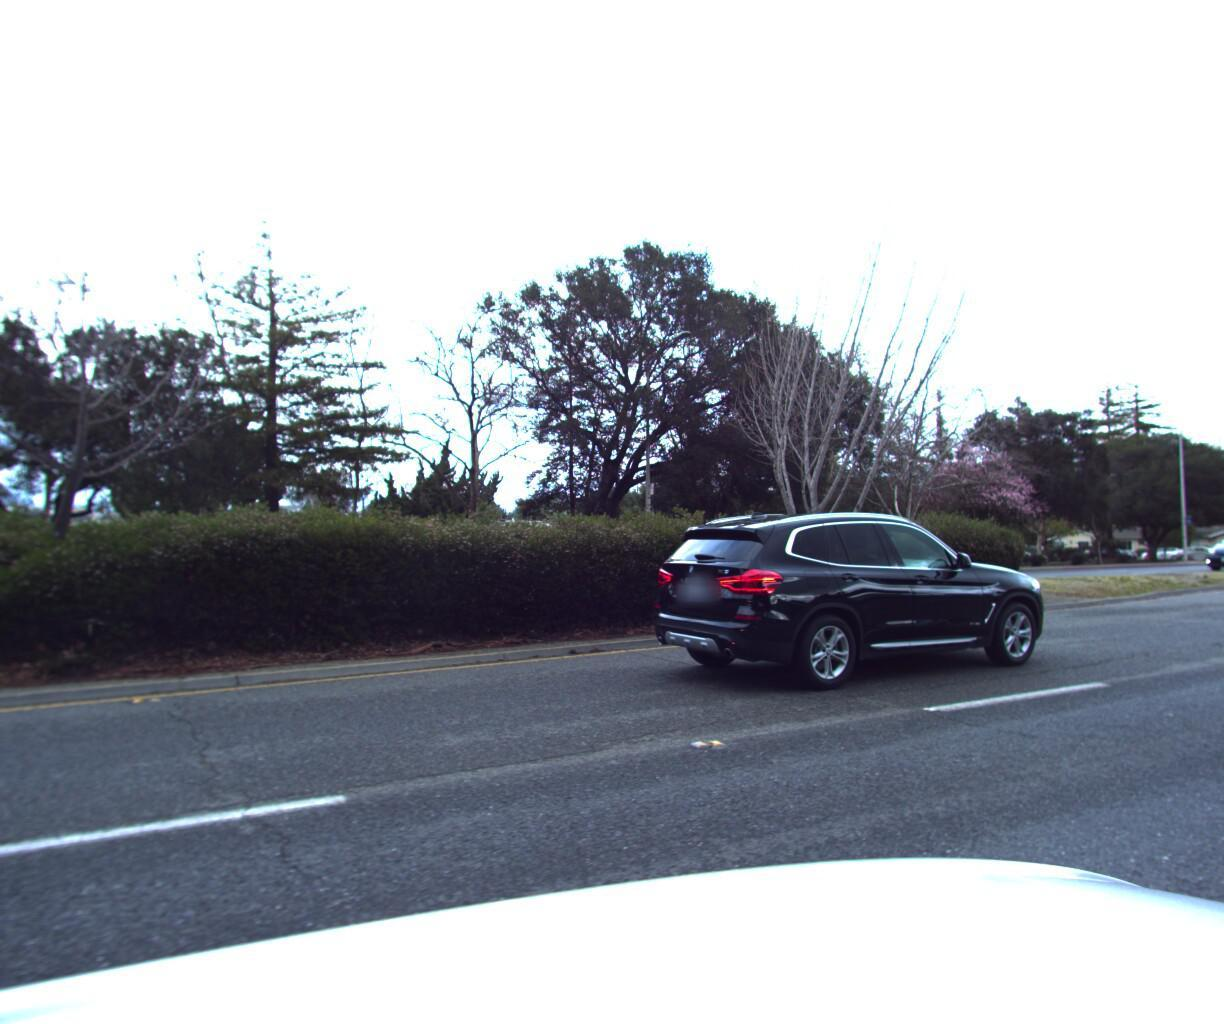car: (626, 503, 1061, 694), (1191, 529, 1224, 573)
